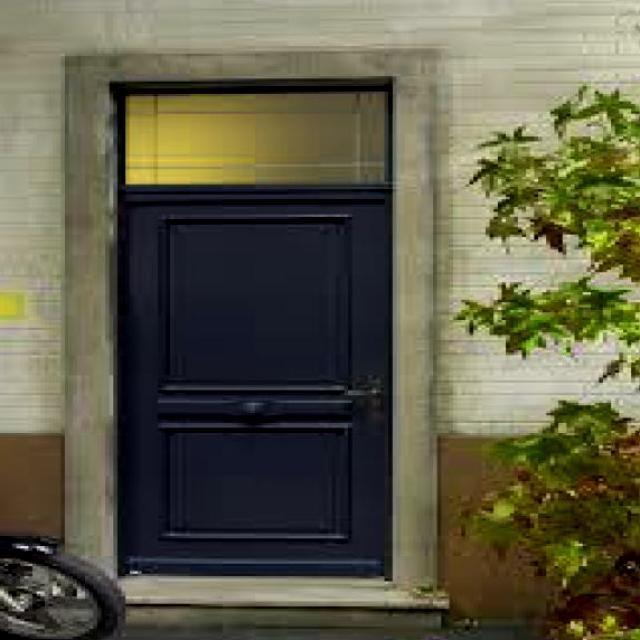door: (117, 187, 391, 577)
